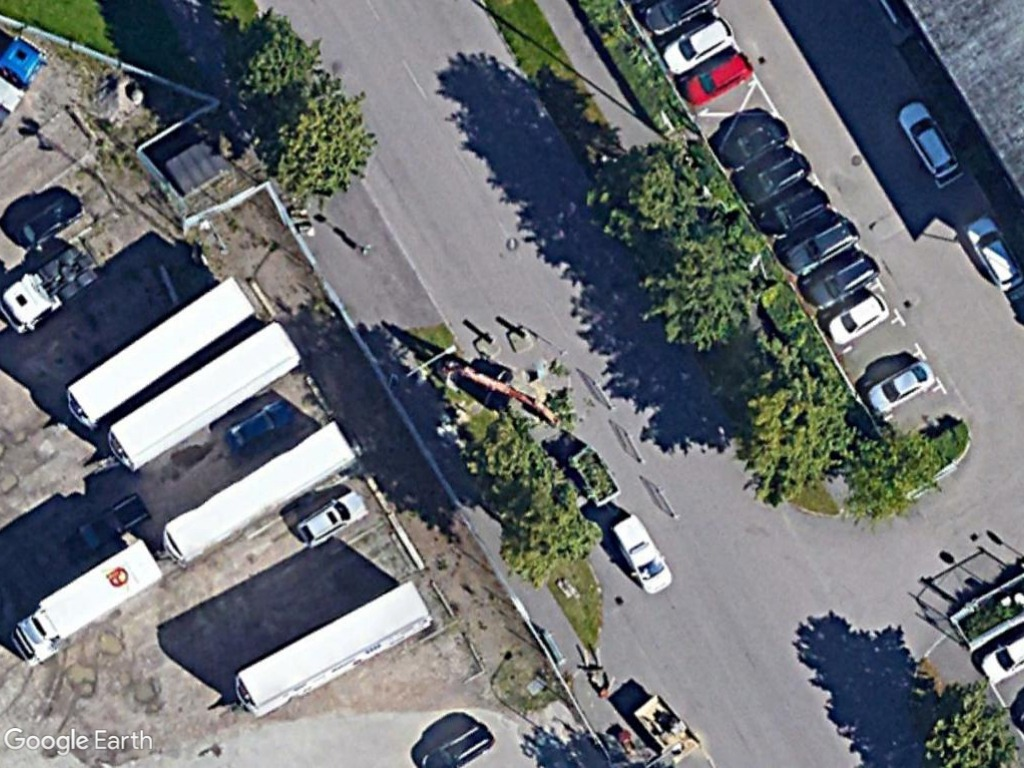car: (894, 93, 966, 182), (802, 249, 885, 312), (965, 207, 1024, 293), (655, 14, 738, 75), (294, 483, 374, 545), (676, 51, 756, 110), (864, 355, 937, 417), (15, 185, 88, 247), (820, 287, 896, 344)
truck: (7, 535, 172, 672)
van: (609, 507, 677, 599)
